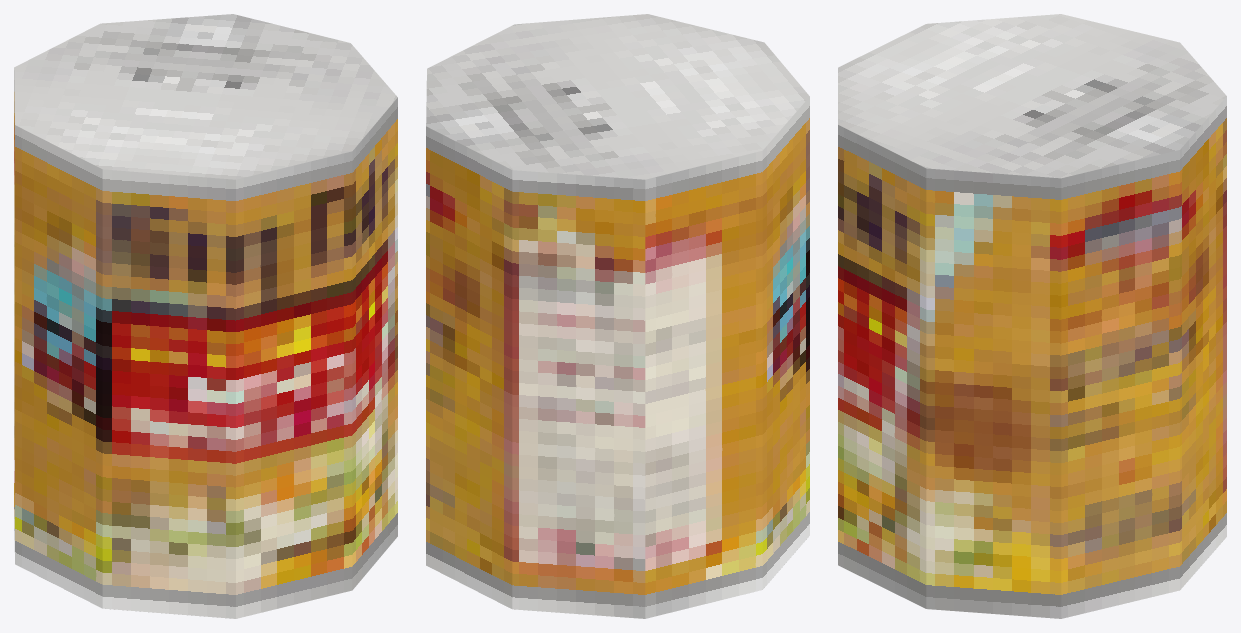
The model's file is food_canned_soup_7.glb.
The picture shows the model from 3 angles, left to right: view 1: azimuth 30°, elevation 25°; view 2: azimuth 150°, elevation 25°; view 3: azimuth 270°, elevation 25°; orthographic projection.
Parts seen in each view (by area): view 1: Food_Canned_Soup_7; view 2: Food_Canned_Soup_7; view 3: Food_Canned_Soup_7.
Part boxes in pixels (x1=…): Food_Canned_Soup_7: x1=14, y1=14, x2=397, y2=618; Food_Canned_Soup_7: x1=426, y1=14, x2=809, y2=618; Food_Canned_Soup_7: x1=838, y1=14, x2=1226, y2=618.
Bounding box in the file's own units: 0.1016 × 0.127 × 0.1016.
1 material, 1 textured.
